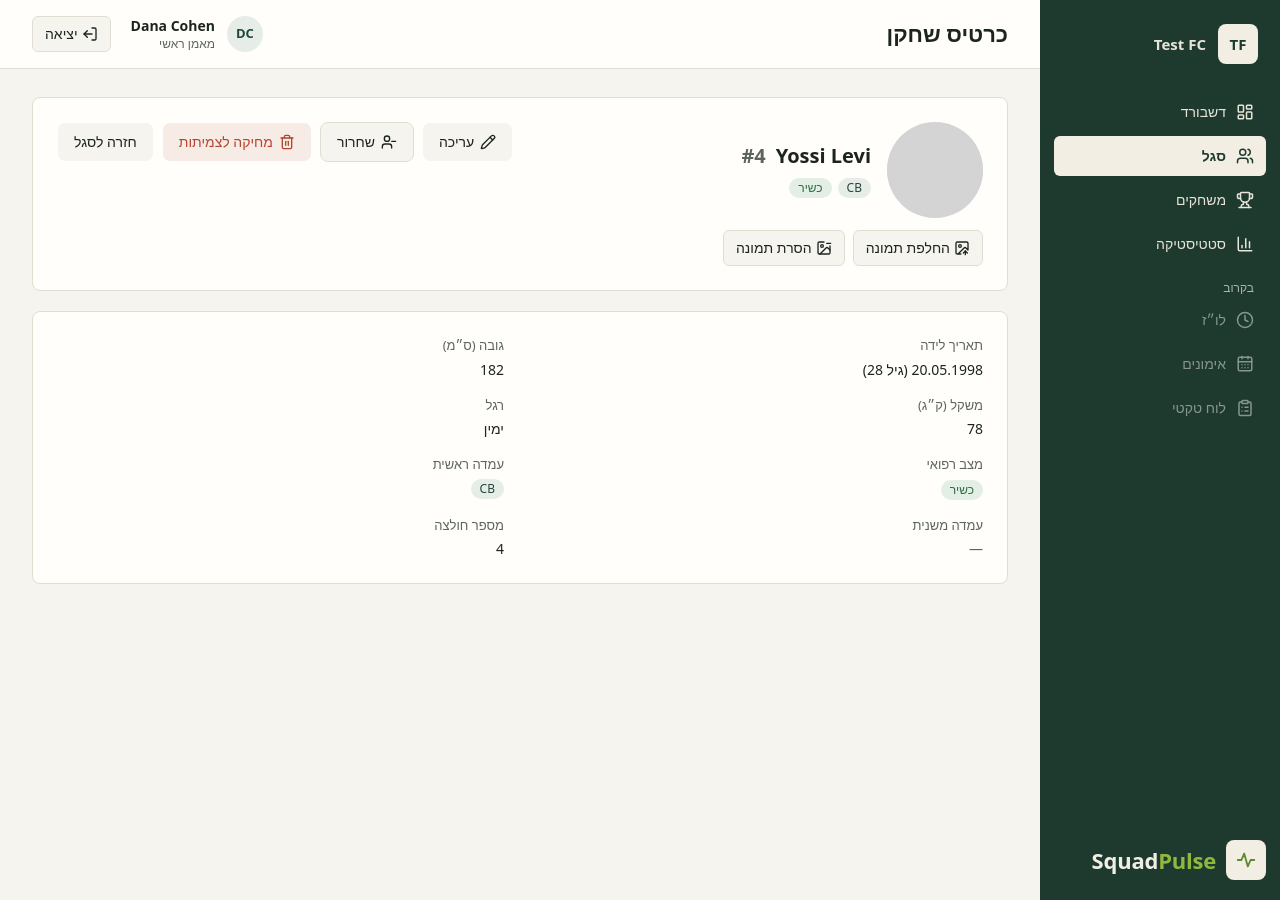
Test: the card's photo controls › send nothing when the removal is cancelled
The image size is (1280, 900).
Expected: the heading "Yossi Levi" is shown, [776,142,871,170]
Click the button "הסרת תמונה" at (784, 248), box [723,230,845,266]
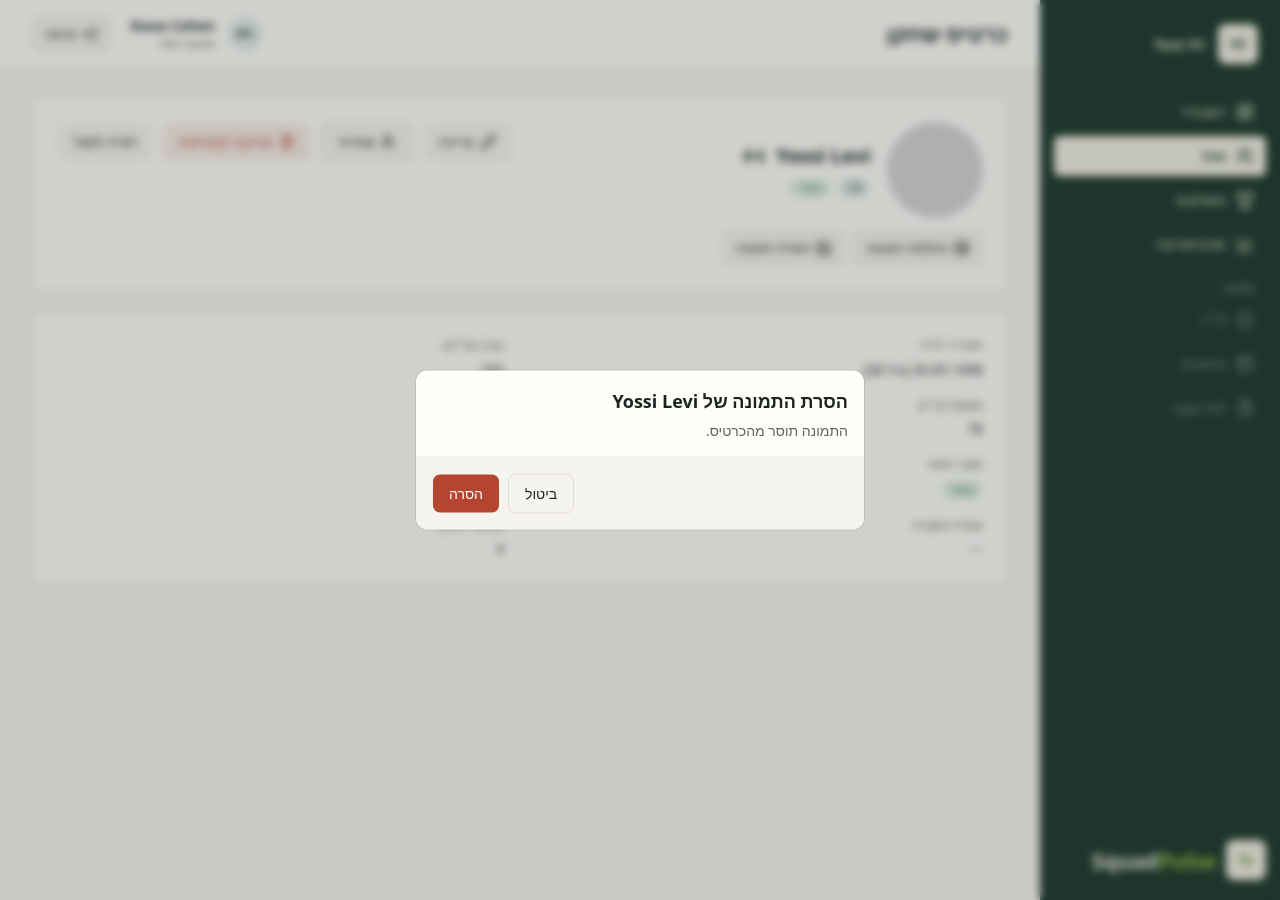
Click the button "ביטול" at (541, 494), box [508,474,574,514]
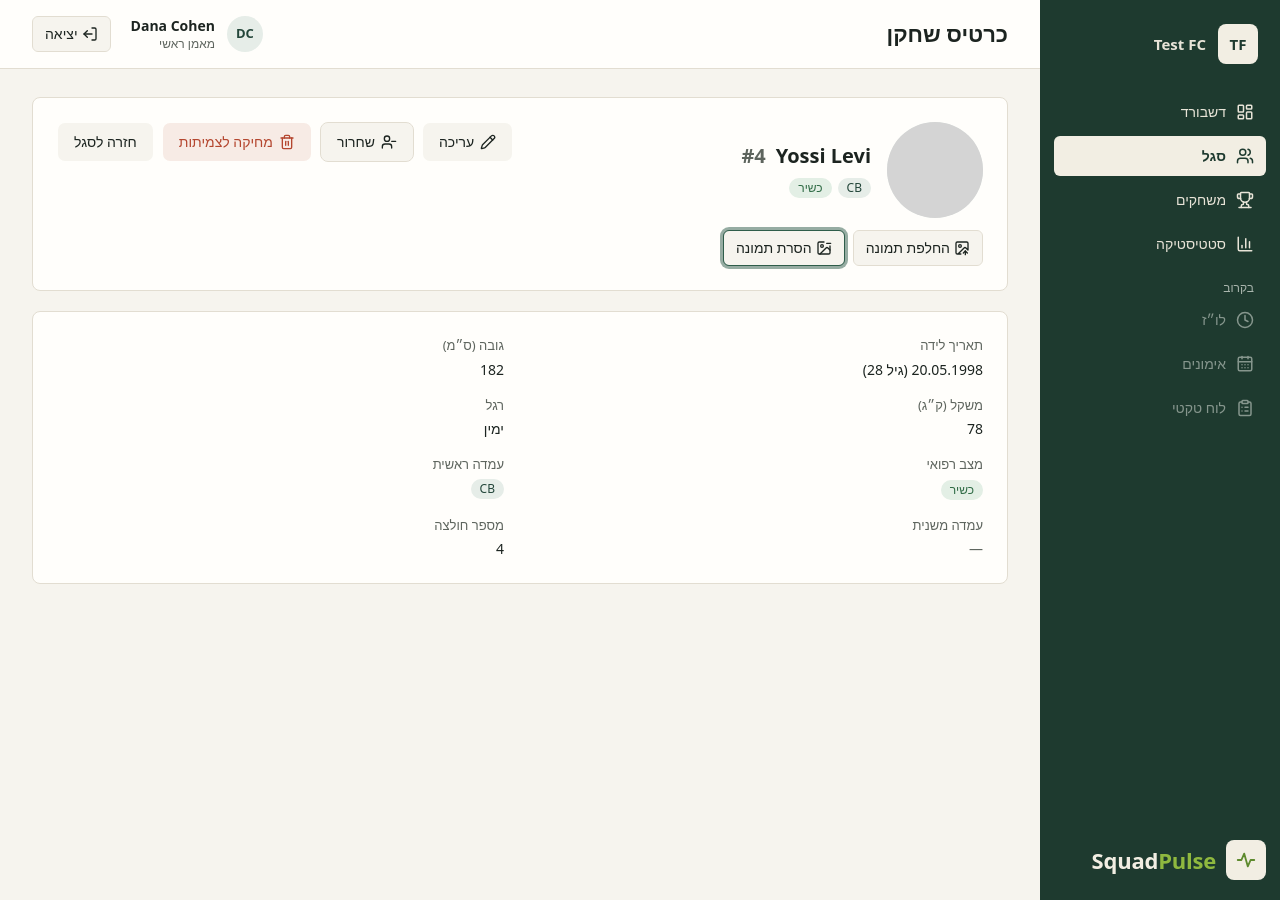
Expected: the dialog is gone
